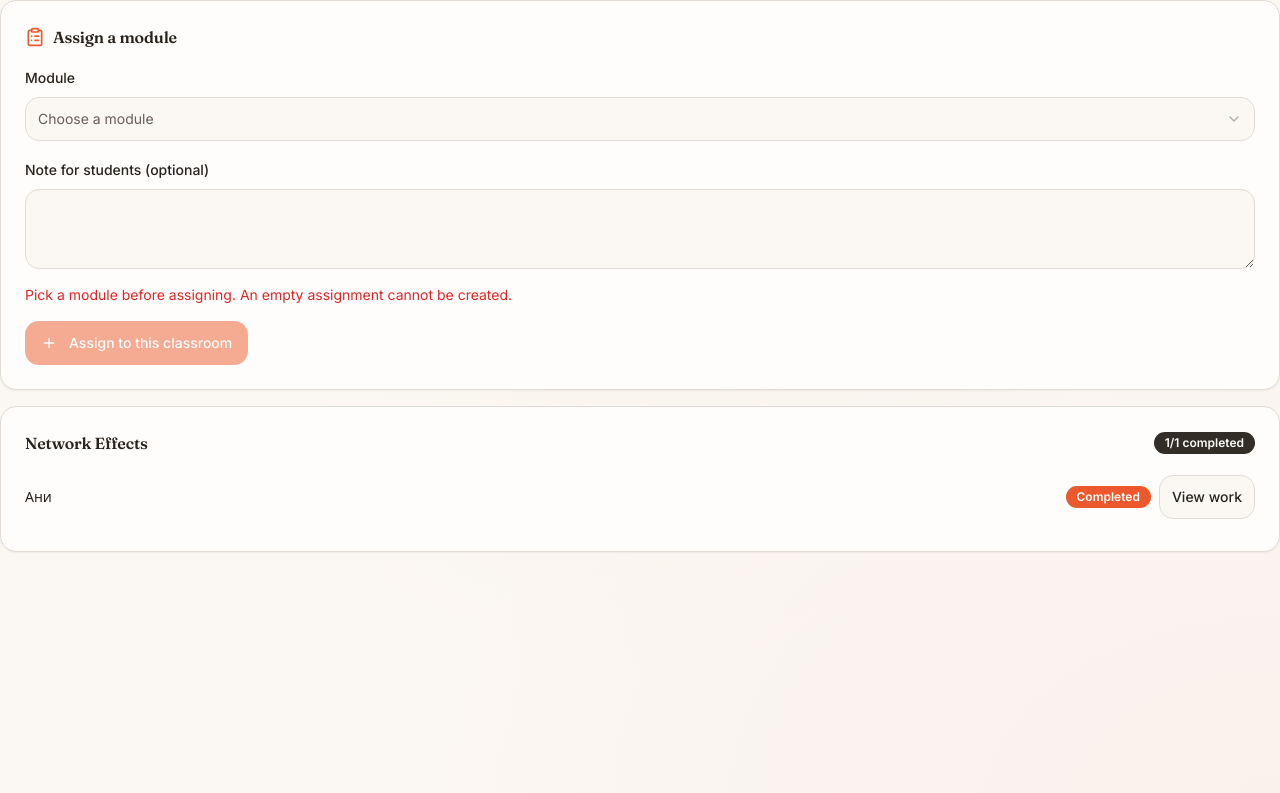
Test: f. evidence detail rendering › renders analytical and application answers for a completed student
Expected: the text "Completed" is shown, top-left (1066, 486), bottom-right (1151, 508)
Expected: the text "1/1 completed" is shown, top-left (1154, 432), bottom-right (1255, 454)
Click the button "View work": (1207, 497) top-left (1159, 475), bottom-right (1255, 519)
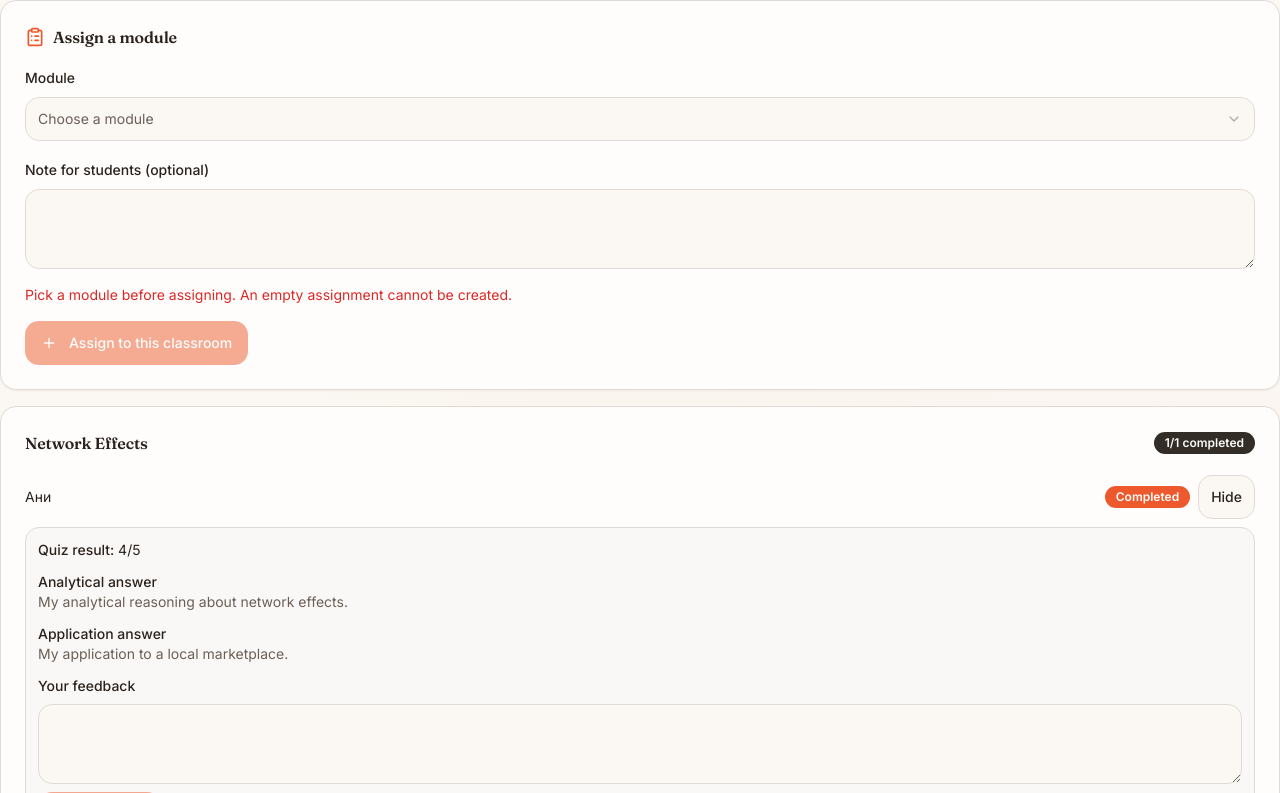
Expected: the text "My analytical reasoning about network effects." is shown, top-left (38, 593), bottom-right (348, 610)
Expected: the text "My application to a local marketplace." is shown, top-left (38, 645), bottom-right (288, 662)
Expected: the text "Quiz result: 4/5" is shown, top-left (38, 541), bottom-right (140, 558)
